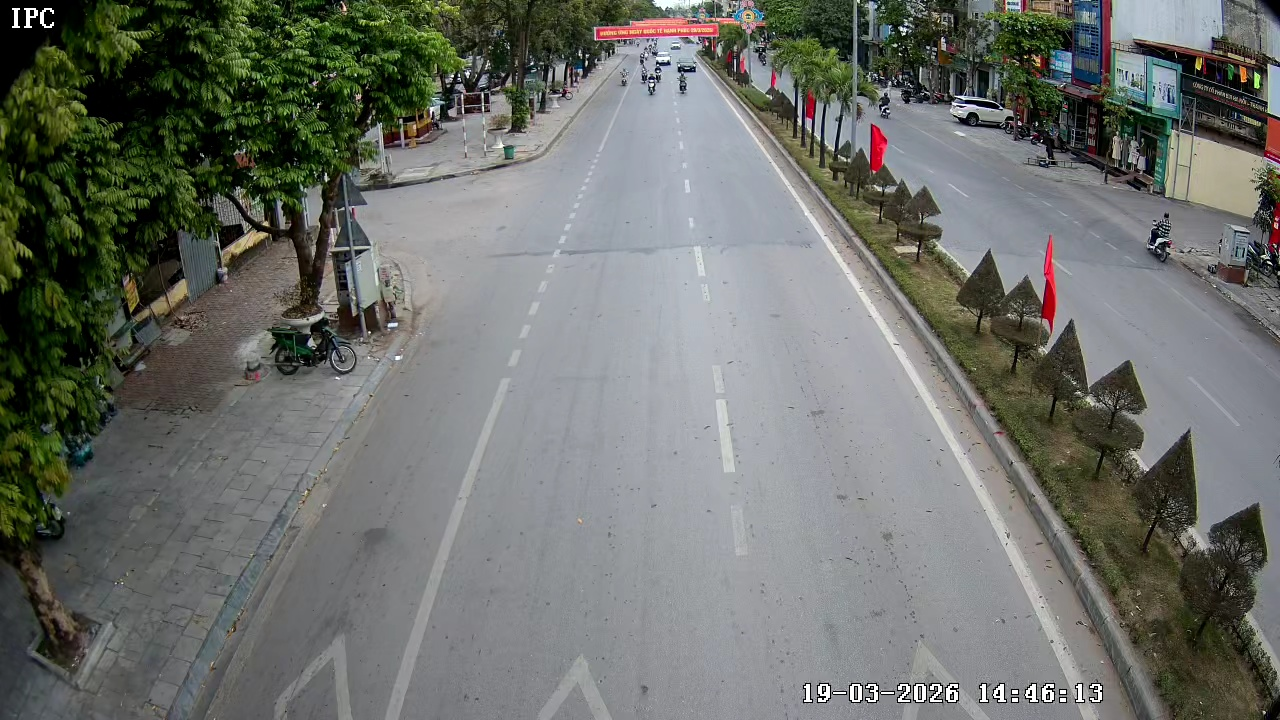motorbike: (259, 322, 367, 377), (675, 70, 692, 95), (647, 74, 657, 93), (619, 67, 629, 86)
